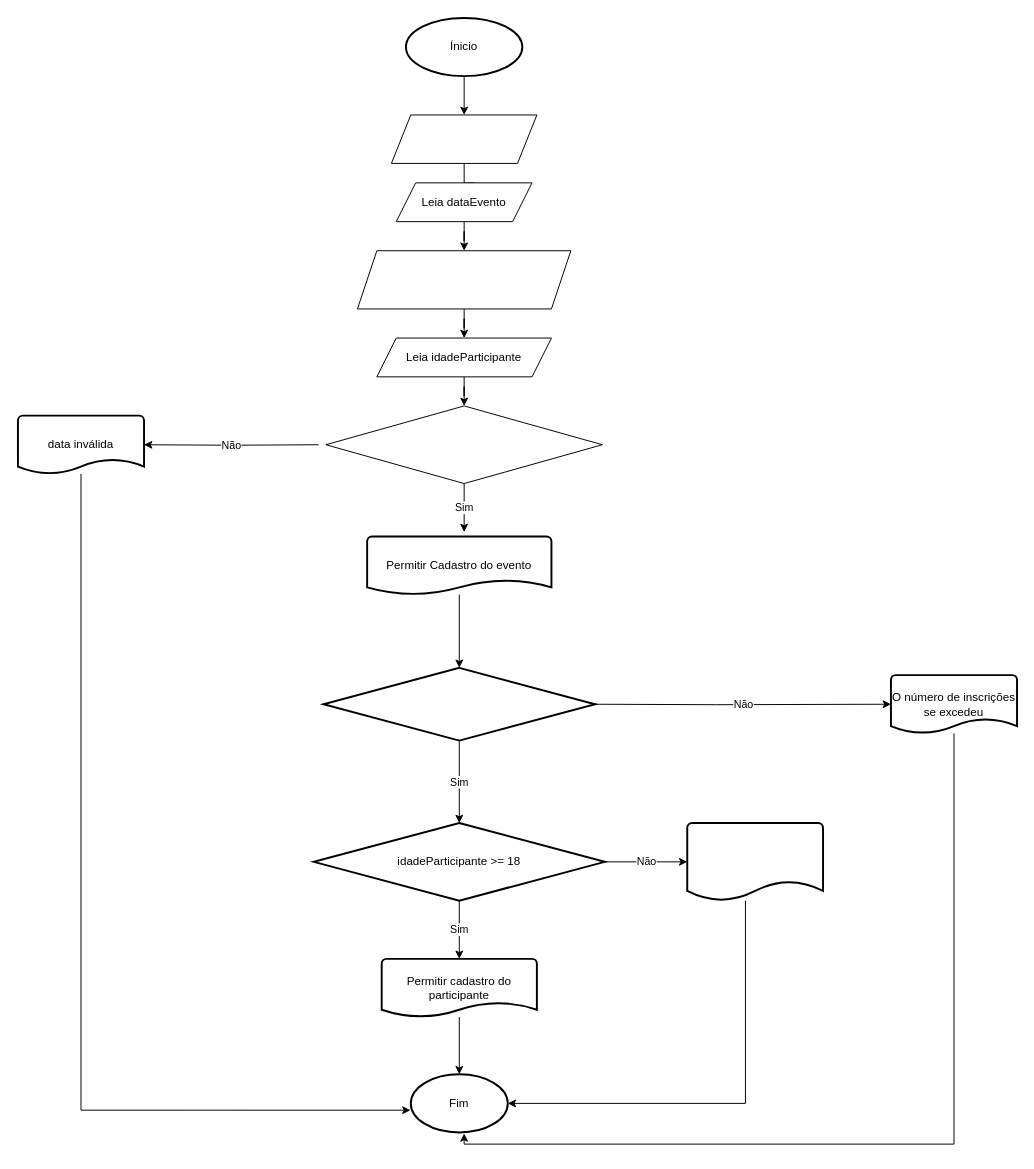
The diagram is 1034 pixels wide and 1169 high, and some of its shapes have lost their labels. Here are the shapes that lost their labels. From the top down, the centre of each, then its label:
At (463,138): "Qual a data do evento?".
At (463,279): "Qual a idade do participante?".
At (463,444): "dataEvento > dataAtual".
At (459,703): "número de inscrições < 100".
At (755,861): "Cadastro permitido apenas para maiores de 18 anos".
